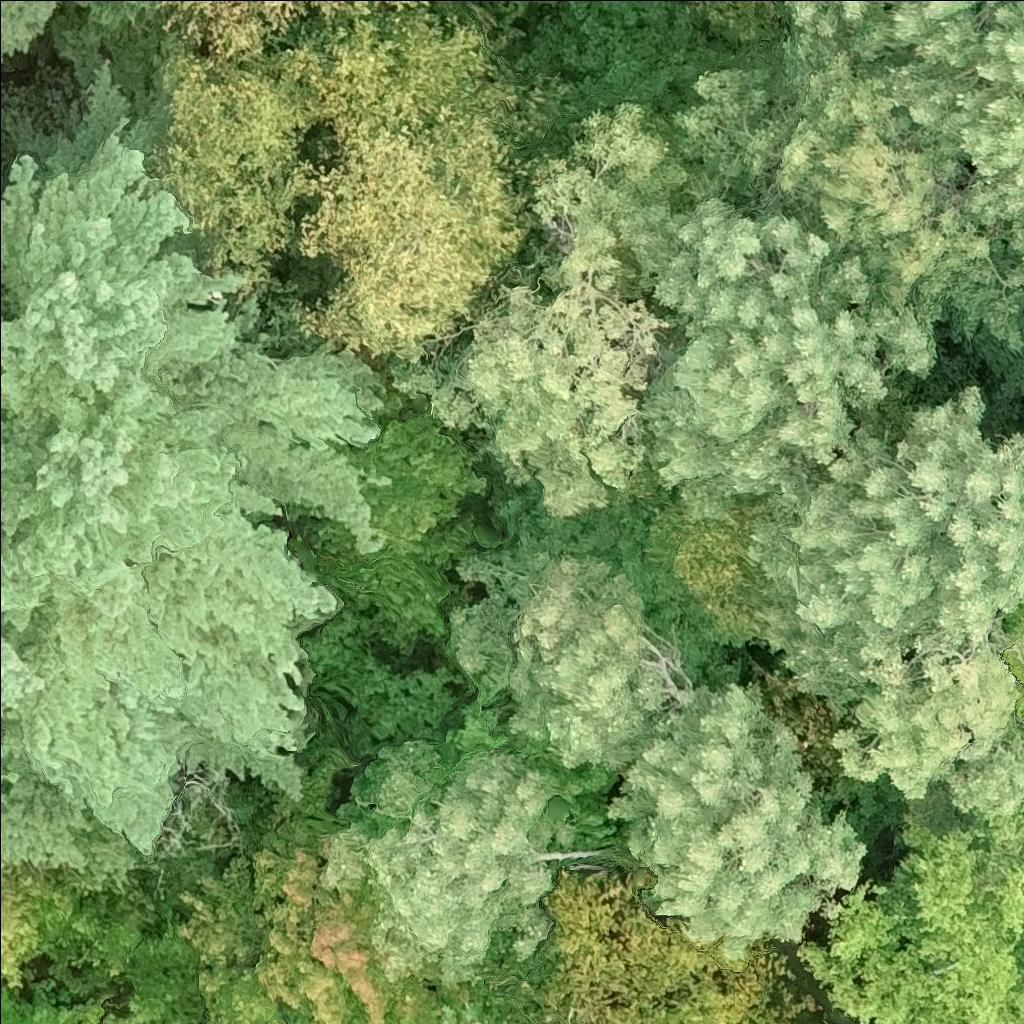crown: (0, 125, 385, 798), (161, 15, 528, 365), (390, 101, 670, 513), (679, 53, 1023, 345), (625, 201, 935, 516), (750, 385, 1023, 708), (613, 689, 863, 967), (458, 563, 709, 769), (330, 764, 552, 991), (296, 392, 490, 647), (803, 805, 1023, 1023), (538, 870, 806, 1023), (833, 615, 1023, 818), (0, 694, 214, 867), (248, 849, 437, 1023), (890, 0, 1023, 219), (784, 0, 1016, 101), (157, 0, 383, 56), (0, 860, 76, 988), (195, 961, 287, 1023), (0, 524, 47, 612), (0, 989, 107, 1023), (0, 626, 37, 710), (999, 606, 1023, 718), (438, 1008, 484, 1023), (1012, 226, 1023, 268), (389, 0, 421, 4)
